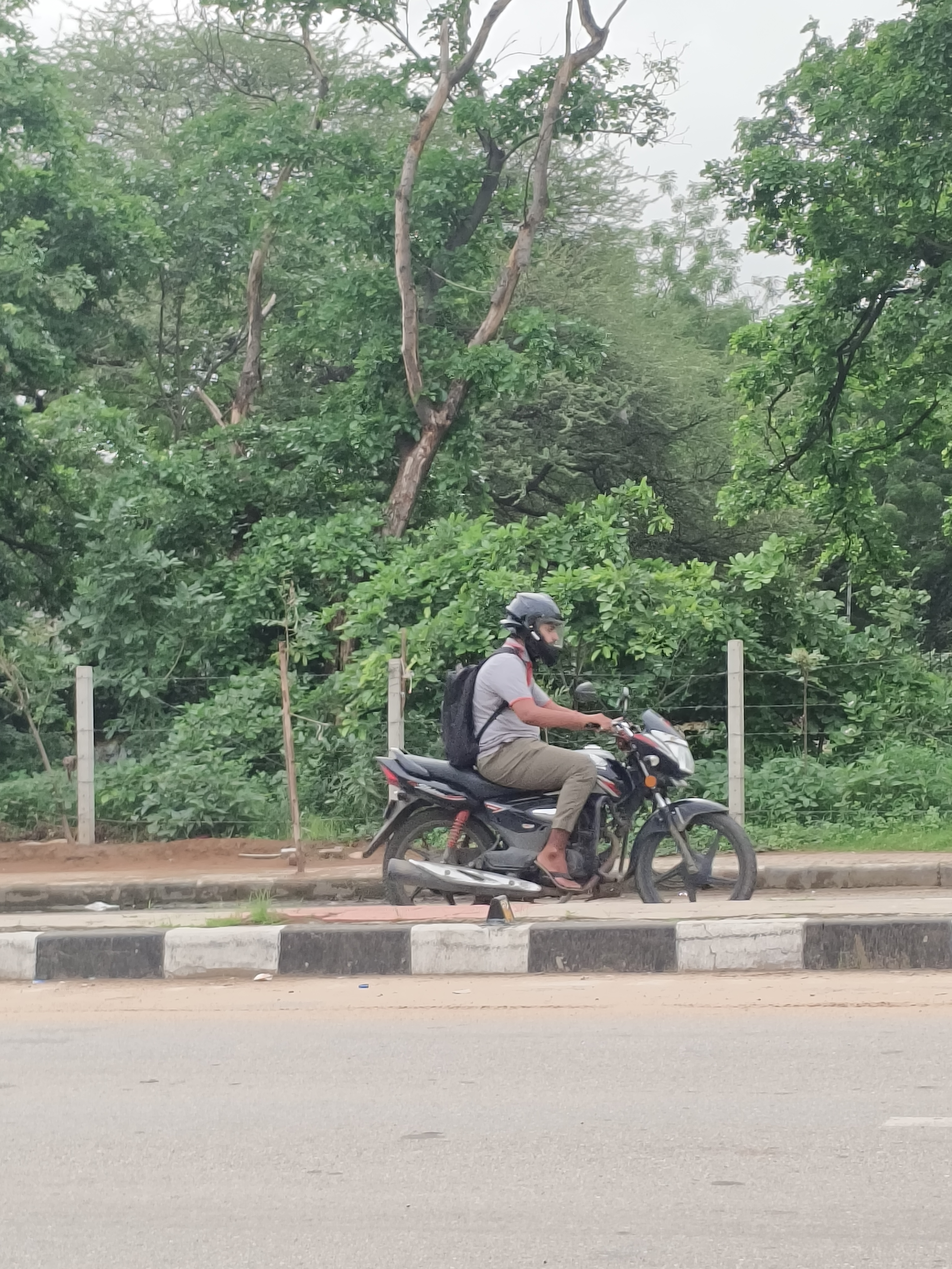BikeWithRider: (362, 570, 778, 933)
Helmet: (486, 589, 577, 674)
